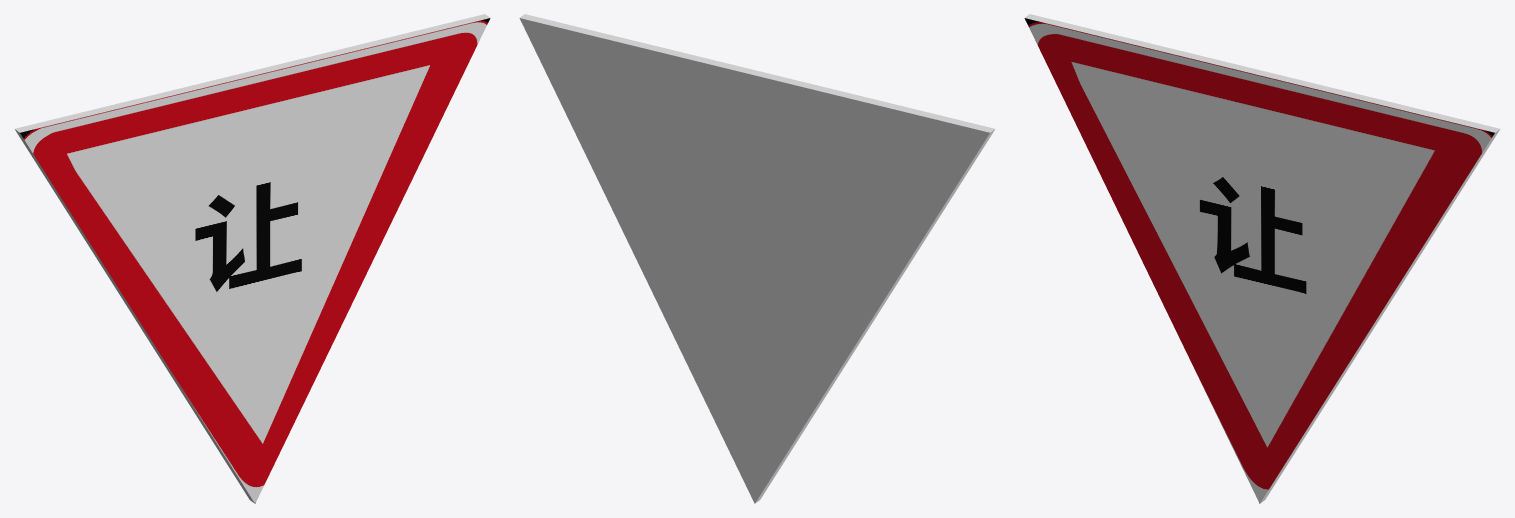
Rendered from InvertedTriangle.gltf.
The picture shows the model from 3 angles, left to right: view 1: azimuth 30°, elevation 25°; view 2: azimuth 150°, elevation 25°; view 3: azimuth 330°, elevation 25°; orthographic projection.
Visible parts, largest first — view 1: SignNode; view 2: SignNode; view 3: SignNode.
Part boxes in pixels (left/top/right/bottom): SignNode: left=14, top=14, right=490, bottom=503; SignNode: left=519, top=14, right=995, bottom=503; SignNode: left=1024, top=14, right=1500, bottom=503.
Bounding box in the file's own units: 1 × 0.87 × 0.02.
Materials: 2 (1 with a texture image).
